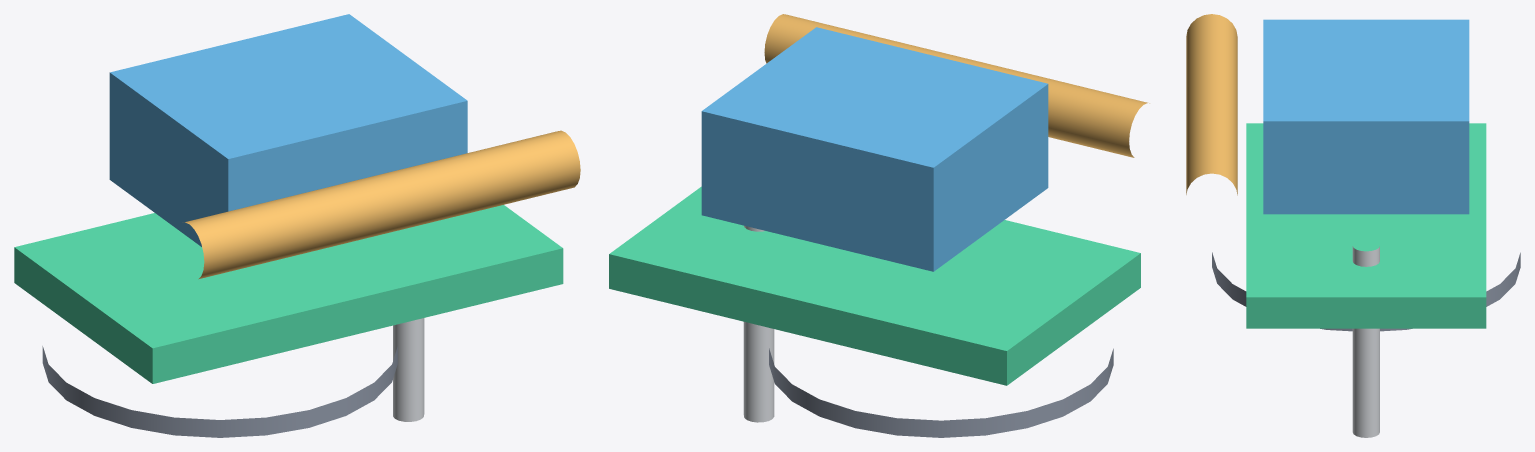
File: operating_systems.glb
3 renders of one model, left to right at view 1: azimuth 30°, elevation 25°; view 2: azimuth 150°, elevation 25°; view 3: azimuth 270°, elevation 25°, orthographic. The views are drawn at different scales.
Visible parts, largest first — view 1: PagingMemoryFrame, CPUSchedulerCore, ReadyQueuePipe, DiskMagneticPlatter, DiskArmActuator; view 2: CPUSchedulerCore, PagingMemoryFrame, ReadyQueuePipe, DiskMagneticPlatter, DiskArmActuator; view 3: CPUSchedulerCore, PagingMemoryFrame, ReadyQueuePipe, DiskArmActuator, DiskMagneticPlatter.
Boxes of the visible parts, left/top/right/bottom form: PagingMemoryFrame: left=14, top=205, right=563, bottom=383; CPUSchedulerCore: left=109, top=14, right=467, bottom=246; ReadyQueuePipe: left=185, top=130, right=580, bottom=279; DiskMagneticPlatter: left=42, top=346, right=397, bottom=437; DiskArmActuator: left=393, top=318, right=424, bottom=421; CPUSchedulerCore: left=701, top=27, right=1048, bottom=271; PagingMemoryFrame: left=609, top=186, right=1140, bottom=385; ReadyQueuePipe: left=764, top=14, right=1149, bottom=157; DiskMagneticPlatter: left=769, top=348, right=1113, bottom=437; DiskArmActuator: left=743, top=225, right=774, bottom=422; CPUSchedulerCore: left=1263, top=19, right=1469, bottom=214; PagingMemoryFrame: left=1246, top=123, right=1486, bottom=328; ReadyQueuePipe: left=1186, top=14, right=1237, bottom=195; DiskArmActuator: left=1352, top=246, right=1379, bottom=437; DiskMagneticPlatter: left=1212, top=252, right=1520, bottom=331.
Size of the model in its own units: 2.5 by 2 by 1.95.
